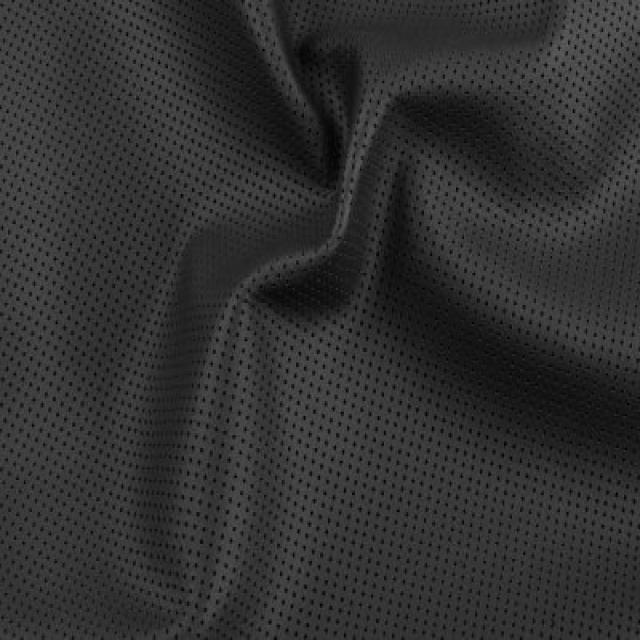Crease: (168, 276, 287, 590), (424, 222, 619, 412), (398, 21, 582, 142)
